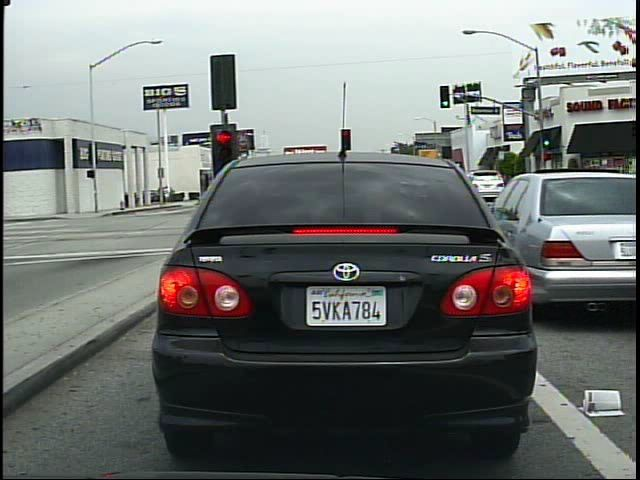person: (518, 168, 532, 200), (164, 184, 172, 207)
